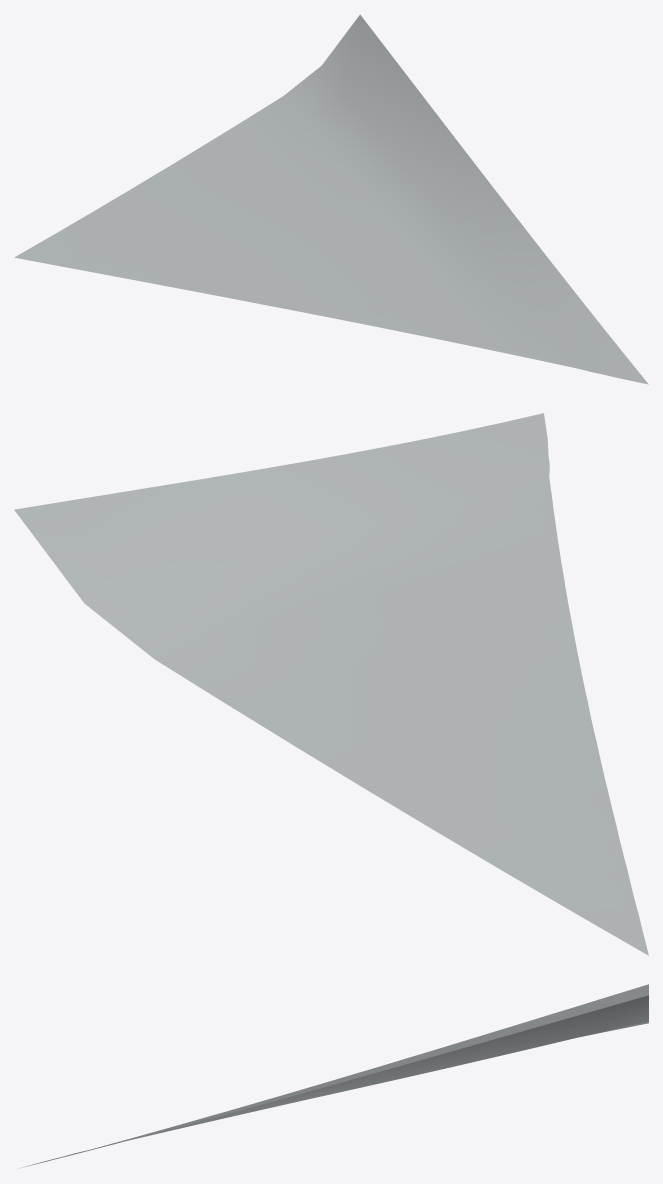
Rendered from alpine-11-10.glb.
3 renders of one model, top to bottom at view 1: azimuth 30°, elevation 25°; view 2: azimuth 150°, elevation 25°; view 3: azimuth 270°, elevation 25°, orthographic. The views are drawn at different scales.
Visible parts, largest first — view 1: alpine-11-10; view 2: alpine-11-10; view 3: alpine-11-10.
Boxes of the visible parts, <box> form: alpine-11-10: <box>14,14,648,384</box>; alpine-11-10: <box>14,413,648,955</box>; alpine-11-10: <box>20,984,648,1168</box>.
Bounding box in the file's own units: 72.16 × 31.63 × 104.
Materials: 1 (1 with a texture image).
